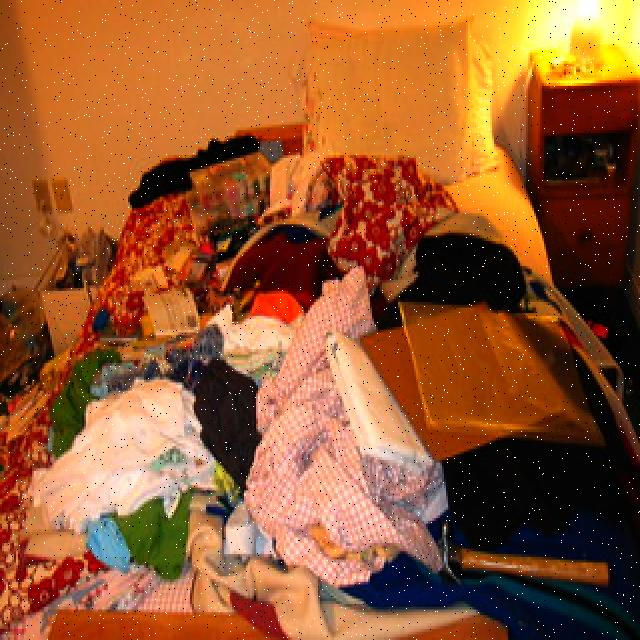bed: (8, 91, 545, 624)
